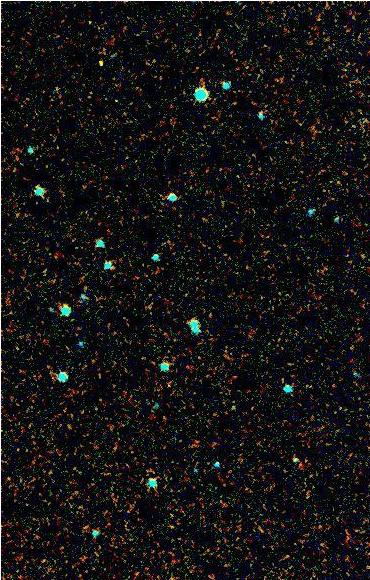star: (87, 47, 117, 77)
